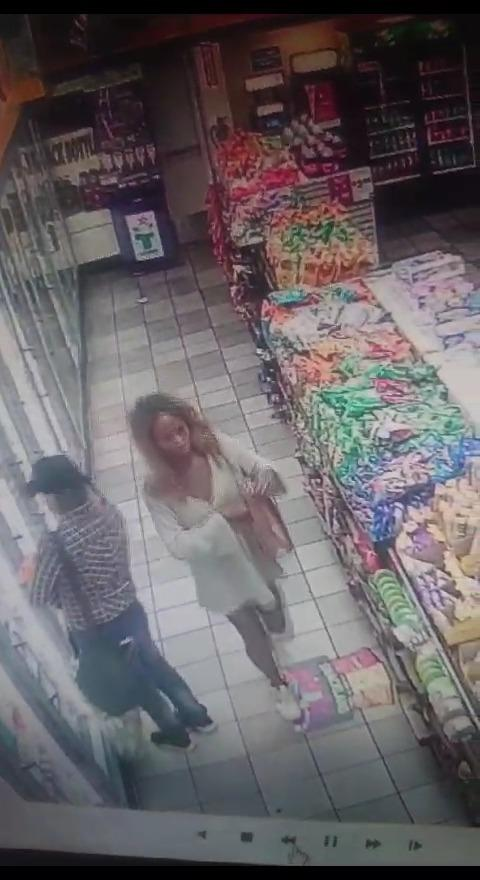Normal: (33, 460, 220, 787)
shoplifting: (143, 383, 319, 704)
